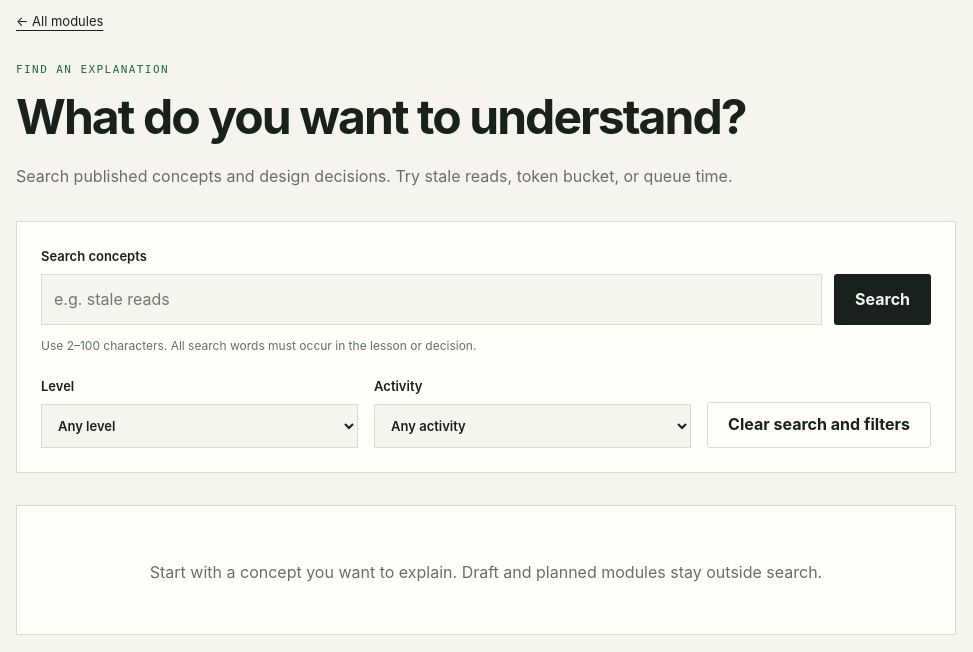
it: SearchPage › does not send blank searches and clears an unsubmitted draft
Expected: the text "Start with a concept" is shown, [150, 562, 822, 582]
Type "draft text" into the search field at x=432, y=300, box [41, 274, 822, 325]
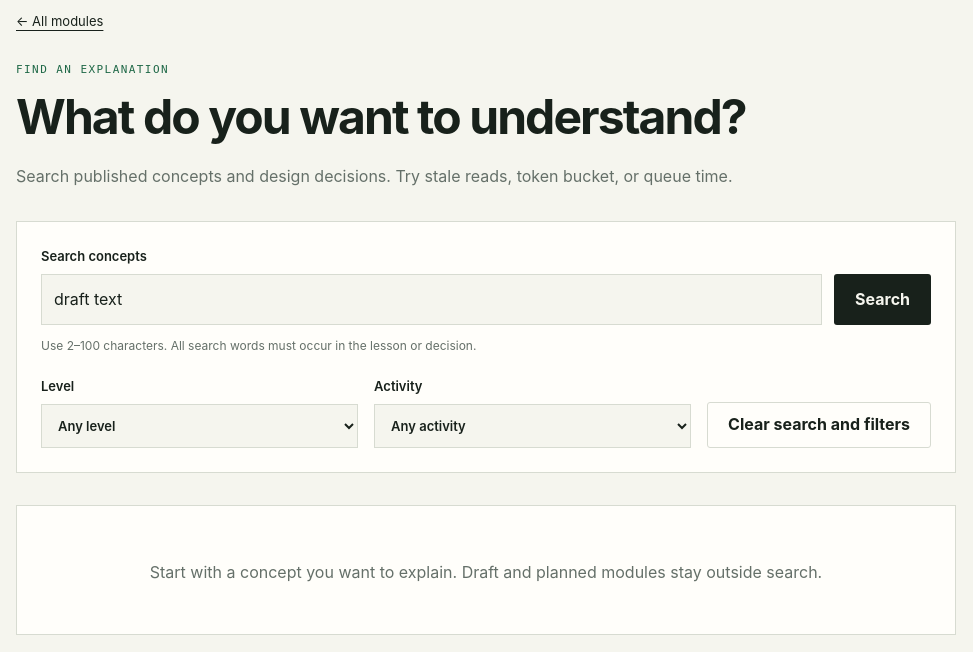
Click the button "Clear search and filters" at x=819, y=425, box [707, 402, 931, 448]
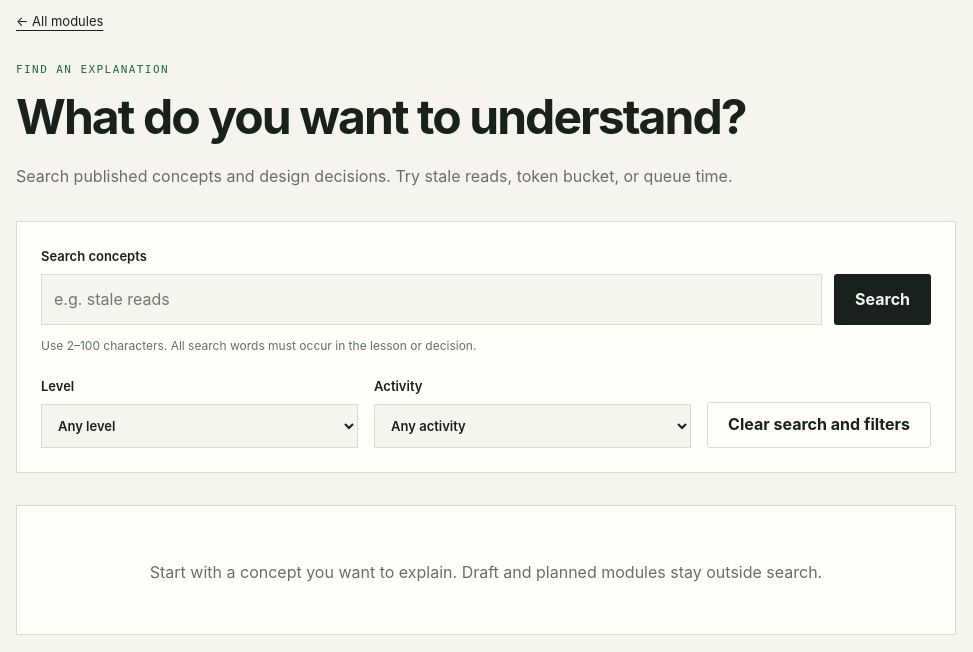
Result: the search field is empty at [41, 274, 822, 325]
